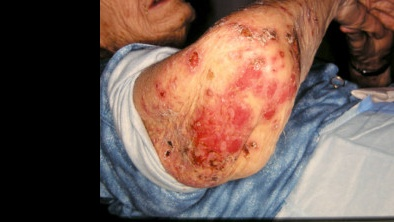SJS-TEN: (104, 0, 394, 220)
